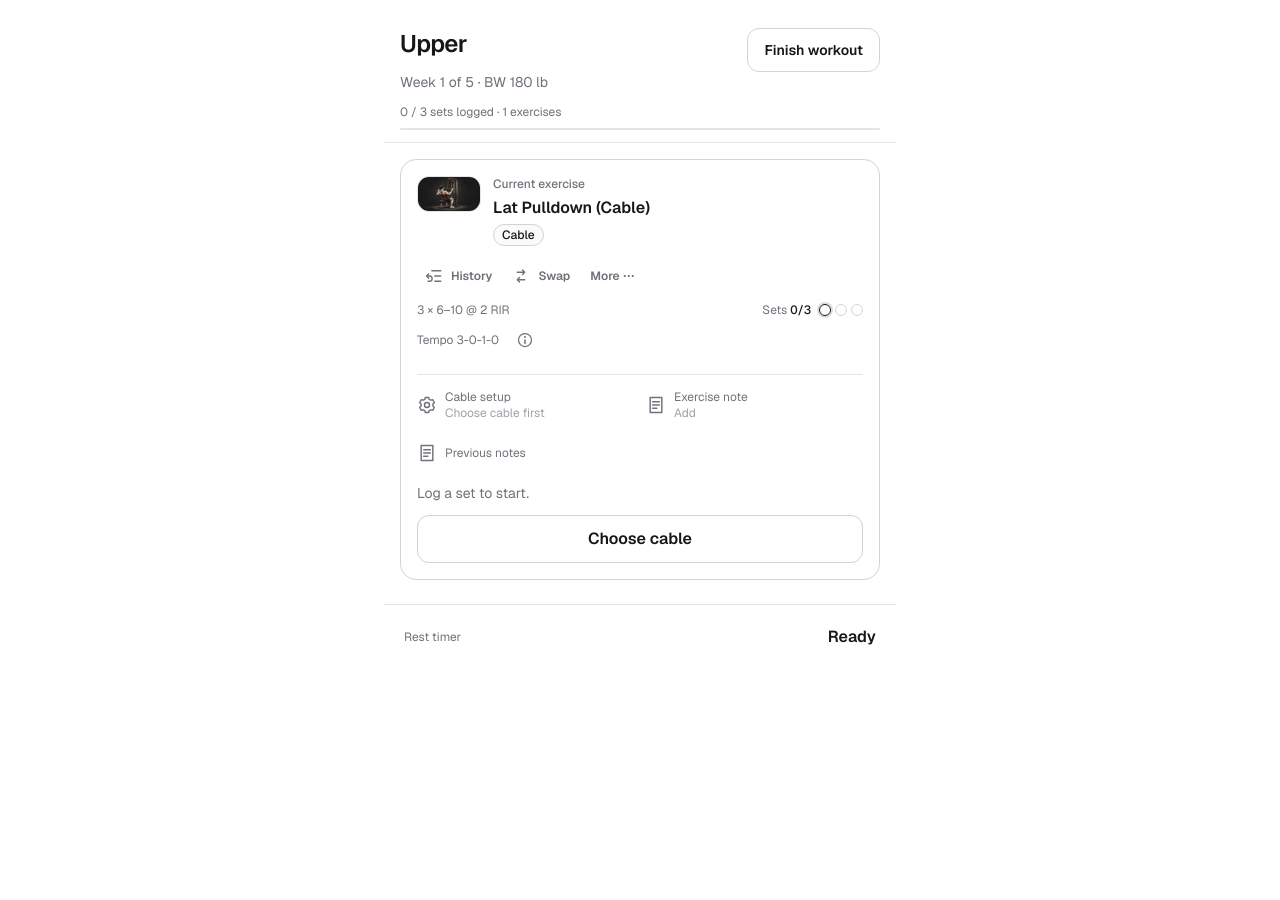
it: active workout set progress › opens cable selection from setup on an unresolved exercise
Click the button "Cable setup Choose cable first". click: (526, 405)
box: [417,383,634,427]
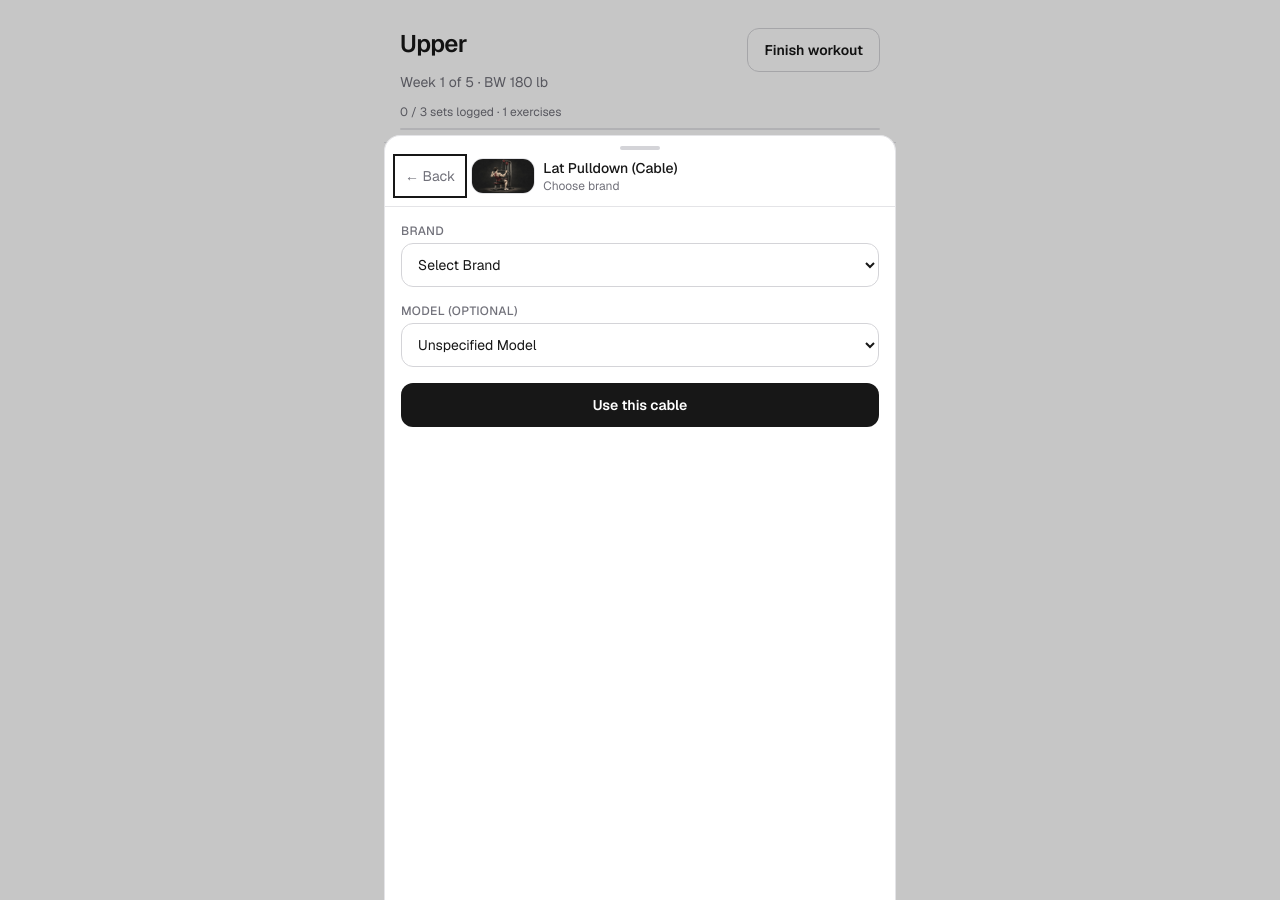
Expected: the dialog shows "Use this cable", [384,135,896,899]
